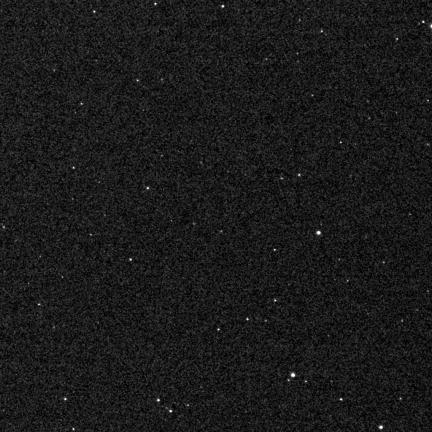blob: (316, 231, 321, 235), (291, 373, 295, 377)
